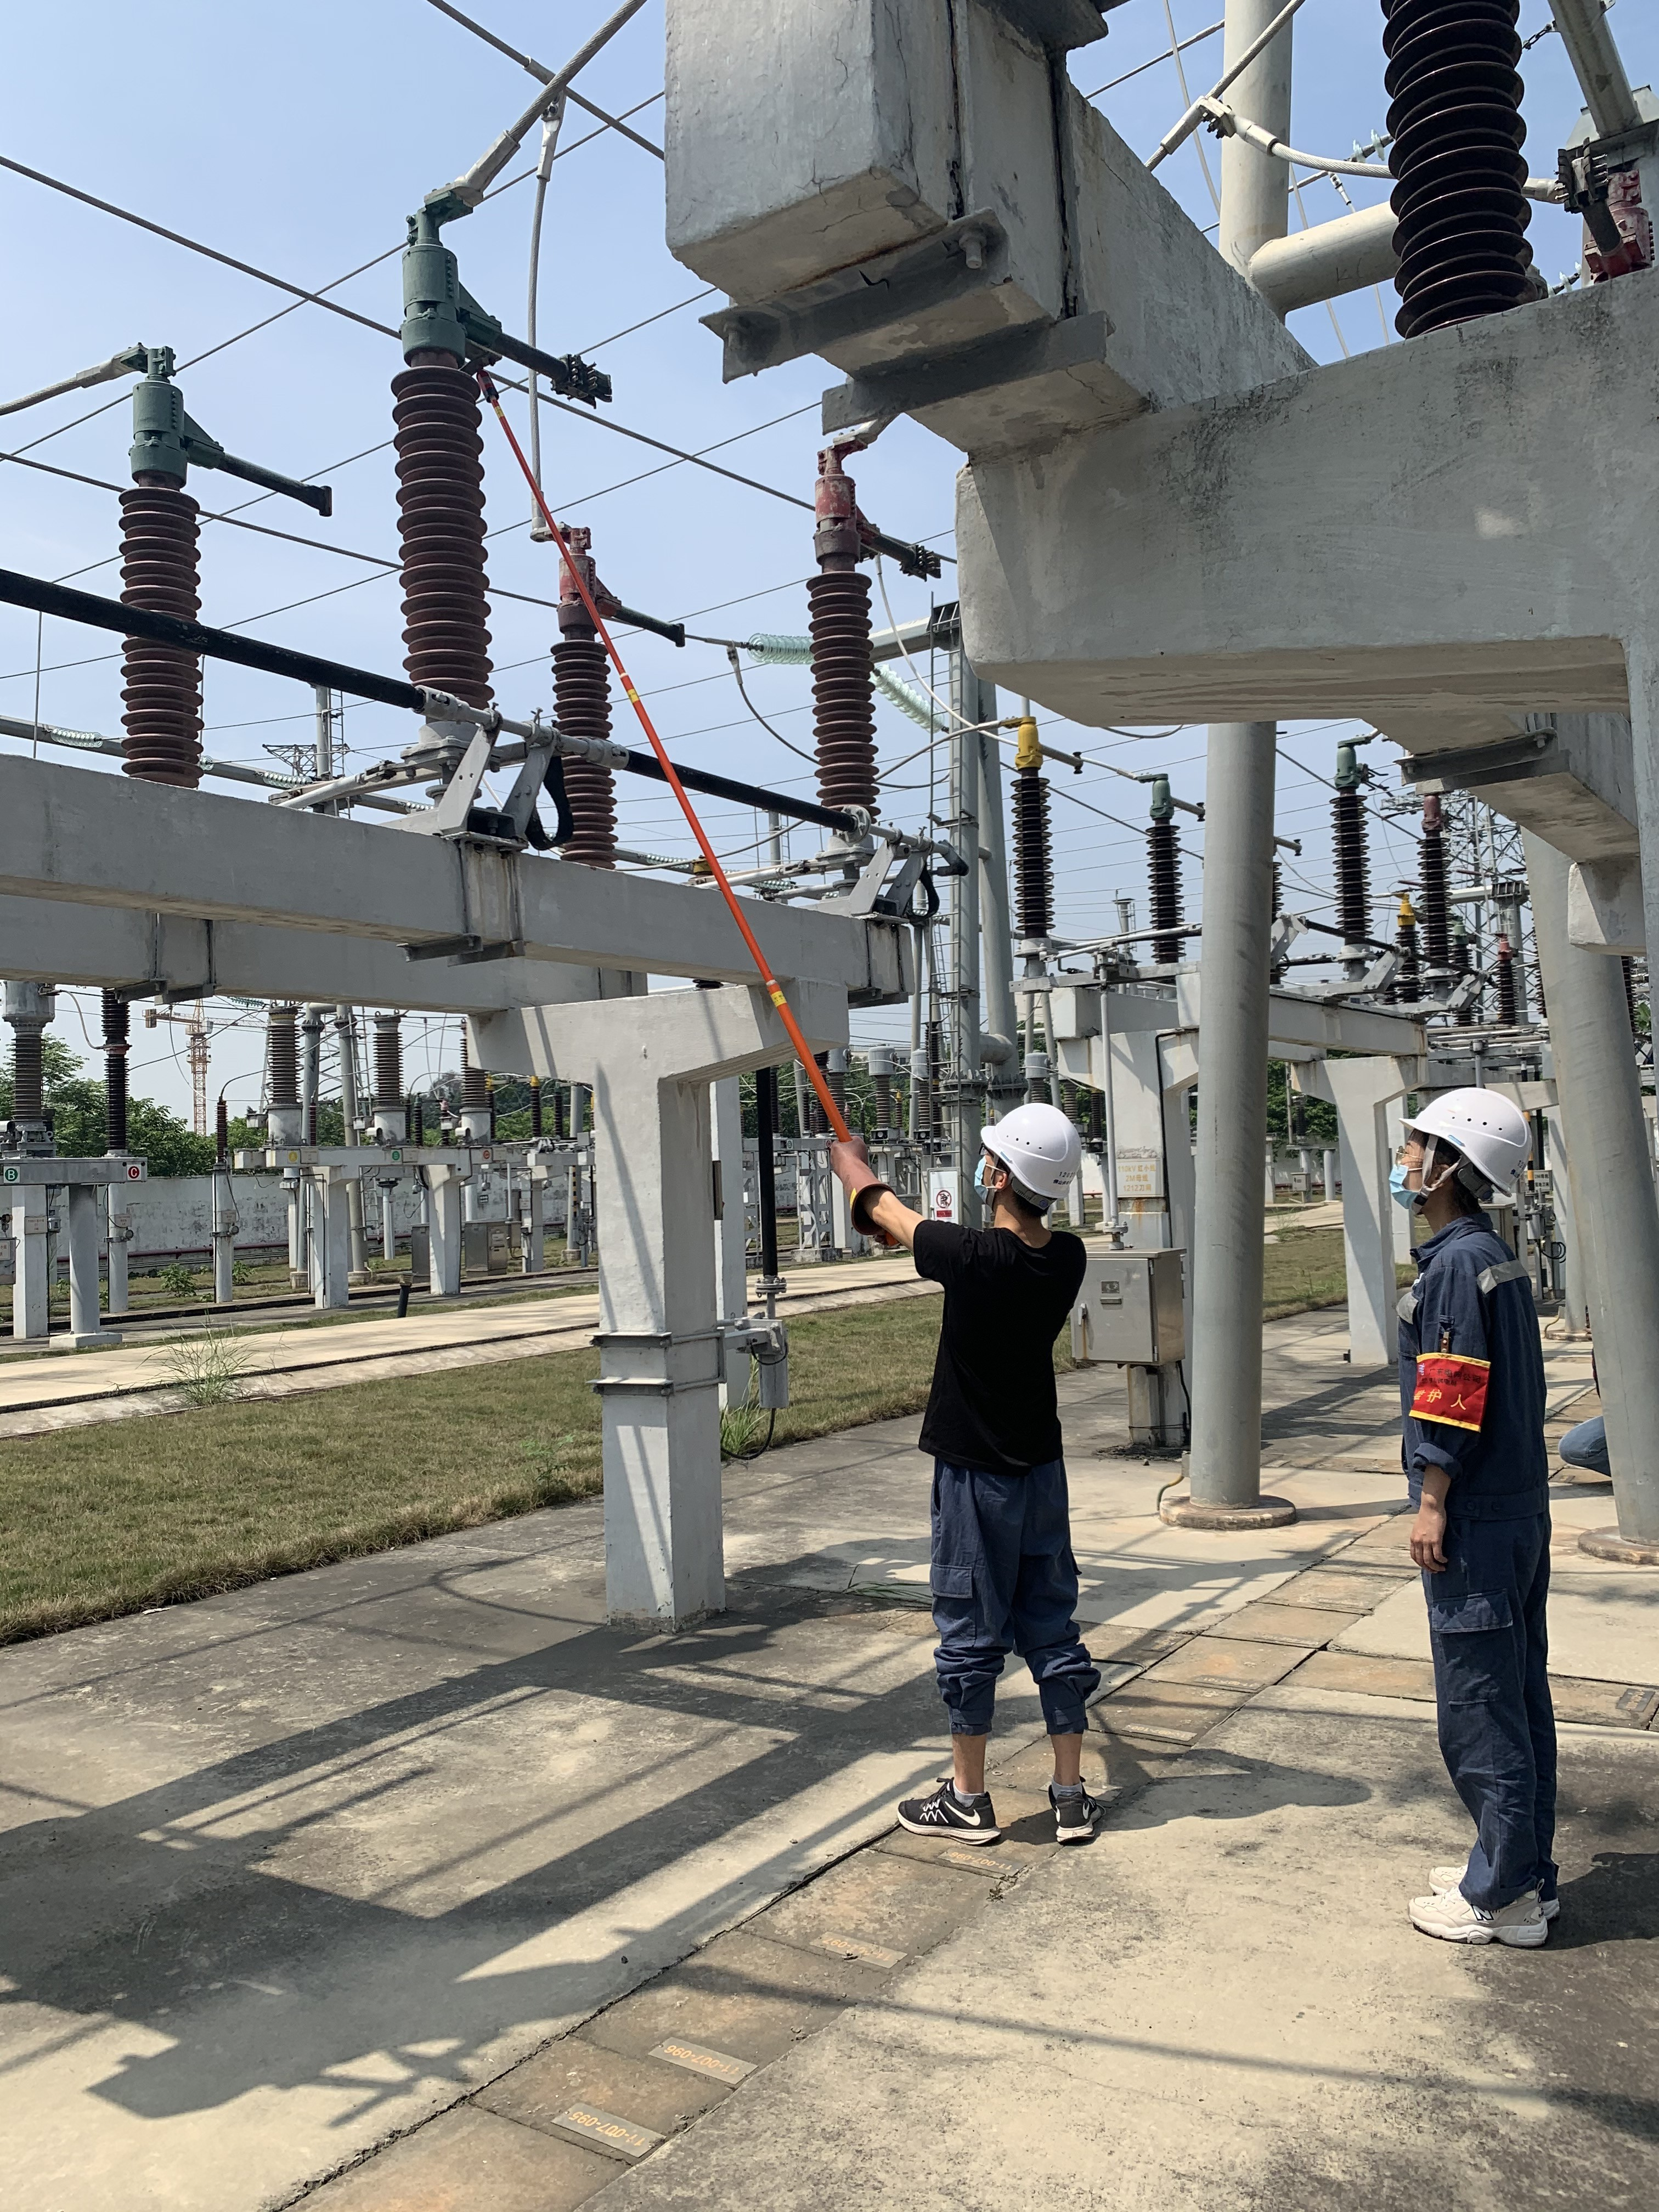downsuit: (1420, 1541, 1575, 1902), (920, 1454, 1098, 1730)
upcloth: (908, 1224, 1089, 1447)
upsuit: (1398, 1231, 1551, 1510)
wrongbottom: (943, 1660, 1004, 1804), (1037, 1669, 1096, 1803)
wrongtop: (1398, 1435, 1462, 1575)
